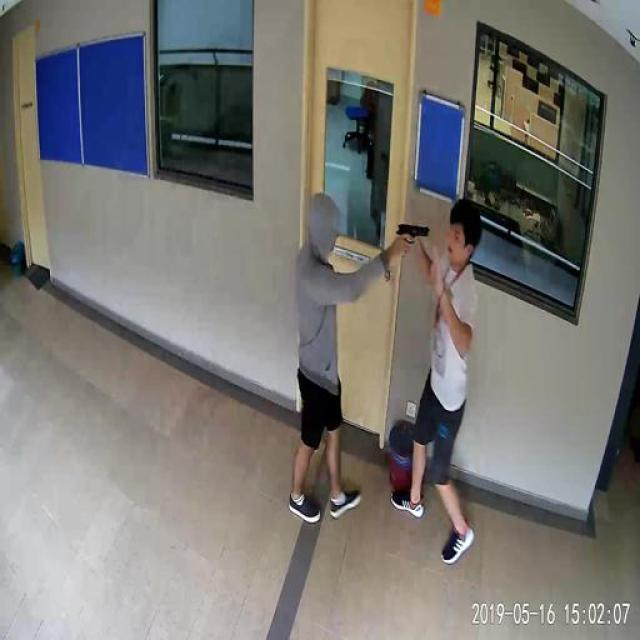Gun: (393, 212, 429, 260)
